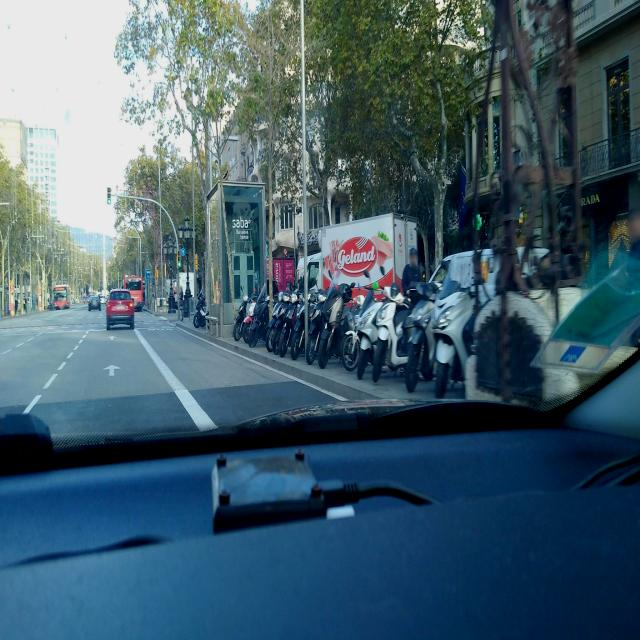bike: (434, 255, 544, 399), (403, 250, 508, 392), (316, 281, 391, 369), (342, 287, 406, 377), (290, 294, 330, 360), (304, 292, 341, 362), (271, 296, 307, 354), (233, 294, 259, 342)
car: (106, 288, 135, 330), (88, 294, 102, 312)
